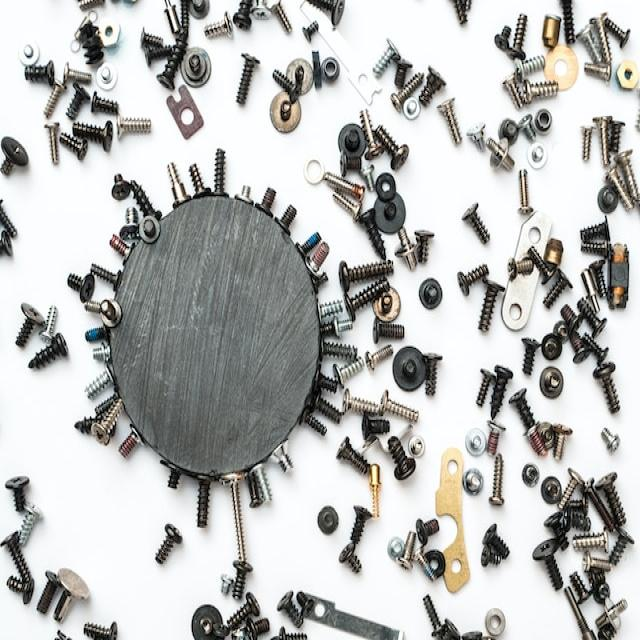Logam: (70, 70, 596, 622)
